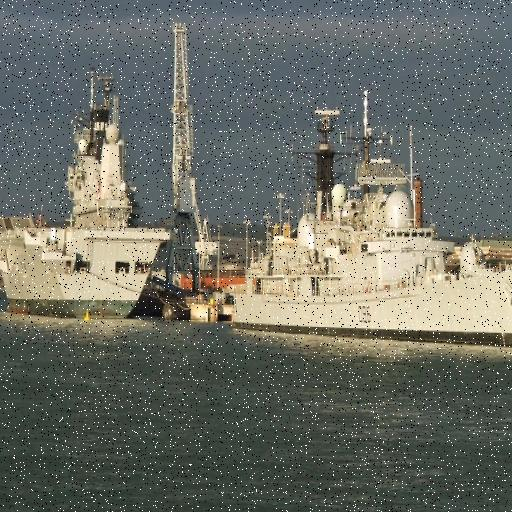Portanaves: (1, 59, 184, 329)
